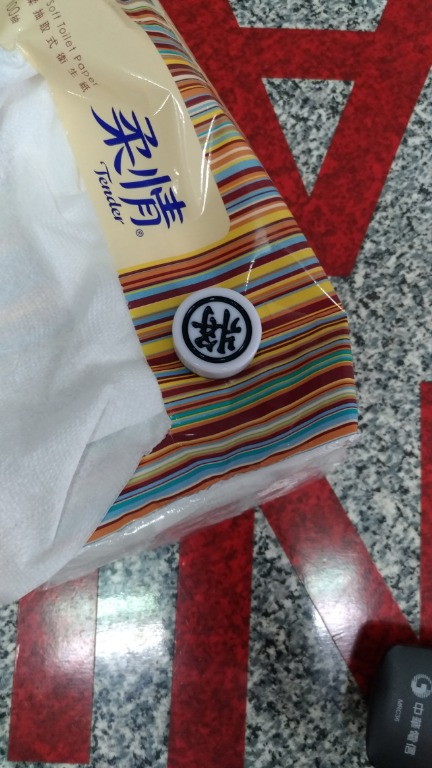b-king: (162, 282, 286, 392)
